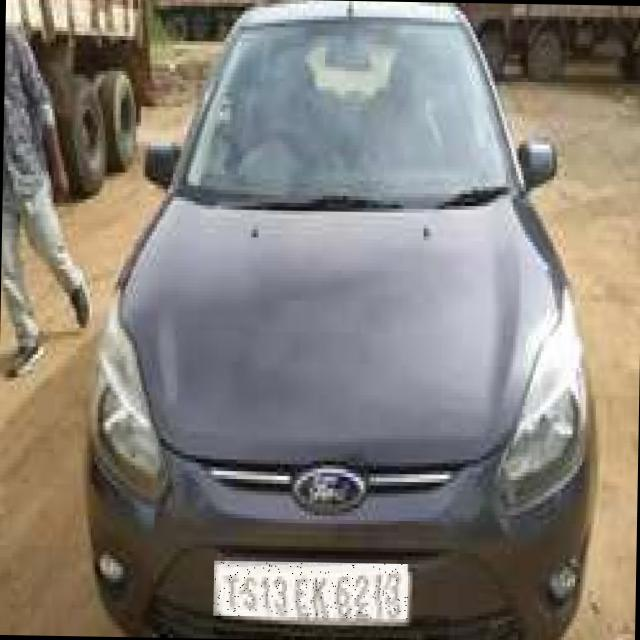Plate: (214, 562, 409, 620)
